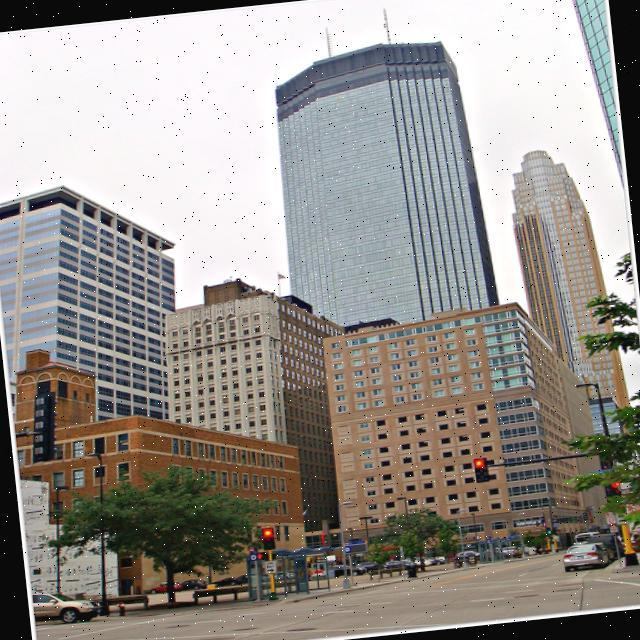fire_hydrant: (115, 600, 125, 615)
